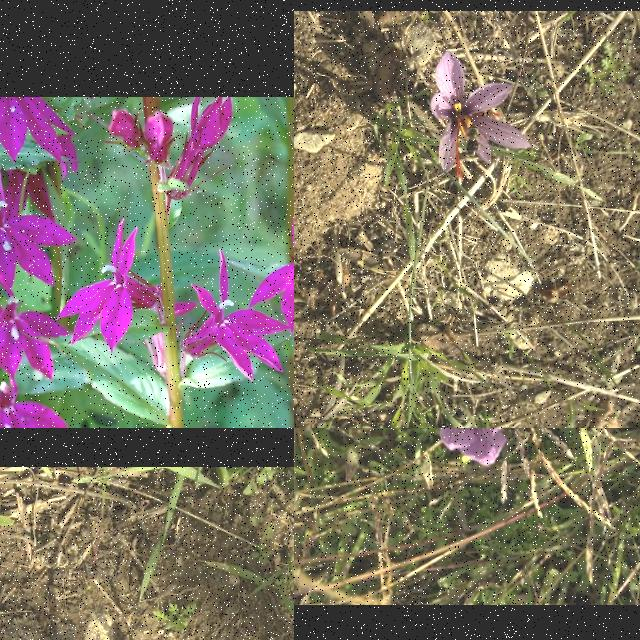flower: (430, 51, 532, 181), (424, 428, 537, 466)
